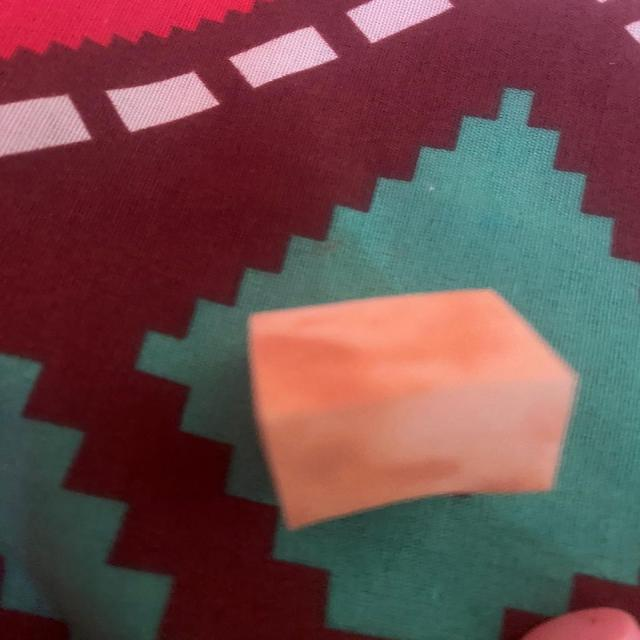beauty blender: (238, 272, 594, 550)
